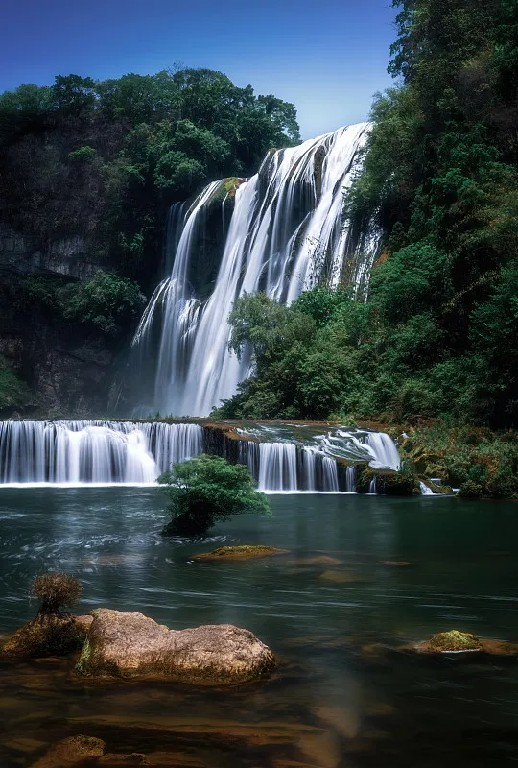Huangguoshu: (129, 124, 374, 423)
